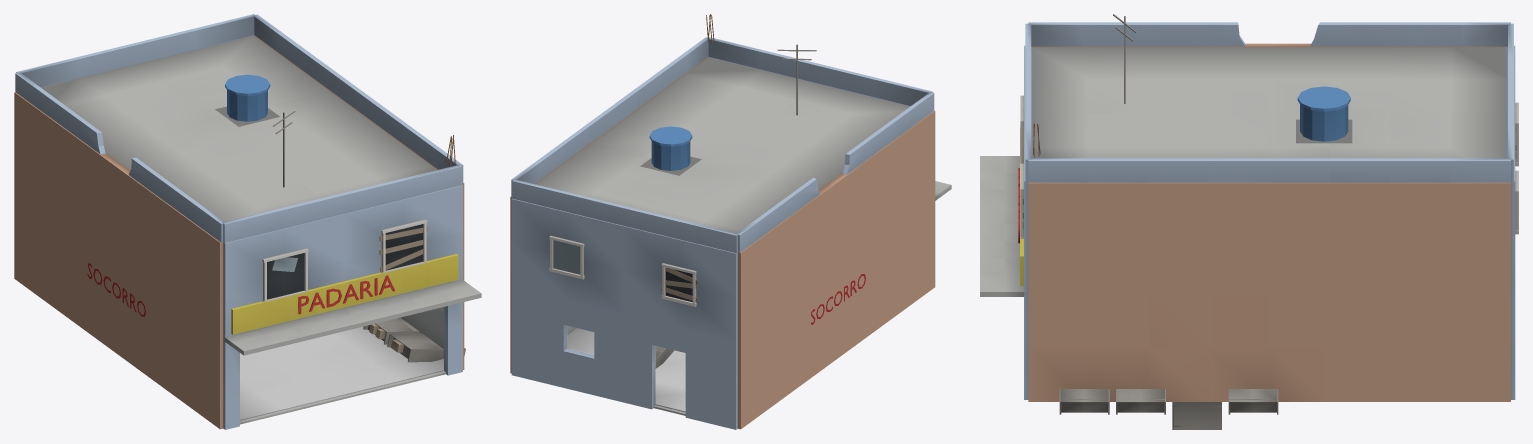
The model's file is sobrado_2.glb.
3 renders of one model, left to right at view 1: azimuth 30°, elevation 25°; view 2: azimuth 150°, elevation 25°; view 3: azimuth 270°, elevation 25°, orthographic. The views are drawn at different scales.
Visible parts, largest first — view 1: longe, ext, dentro, detalhe; view 2: ext, longe, detalhe, dentro; view 3: ext, longe, dentro, detalhe.
Boxes of the visible parts, x1,y1,x2,y2 form: longe: [15, 14, 481, 355]; ext: [14, 35, 464, 429]; dentro: [240, 307, 465, 424]; detalhe: [87, 74, 455, 316]; ext: [510, 57, 935, 429]; longe: [511, 37, 951, 253]; detalhe: [549, 14, 865, 324]; dentro: [567, 325, 685, 415]; ext: [1024, 43, 1515, 401]; longe: [980, 22, 1513, 296]; dentro: [1059, 389, 1278, 429]; detalhe: [1018, 14, 1518, 243].
Size of what is drawn, in the model's own units: 8.74 by 9.29 by 13.4.
